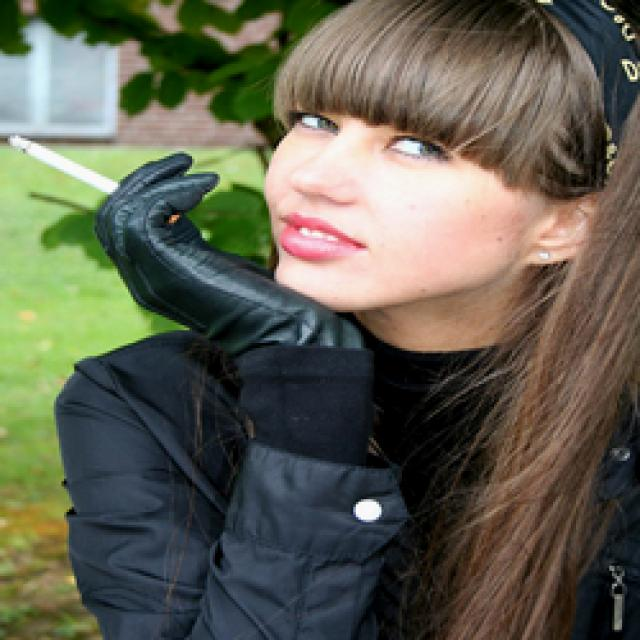Smooking: (9, 127, 133, 213)
